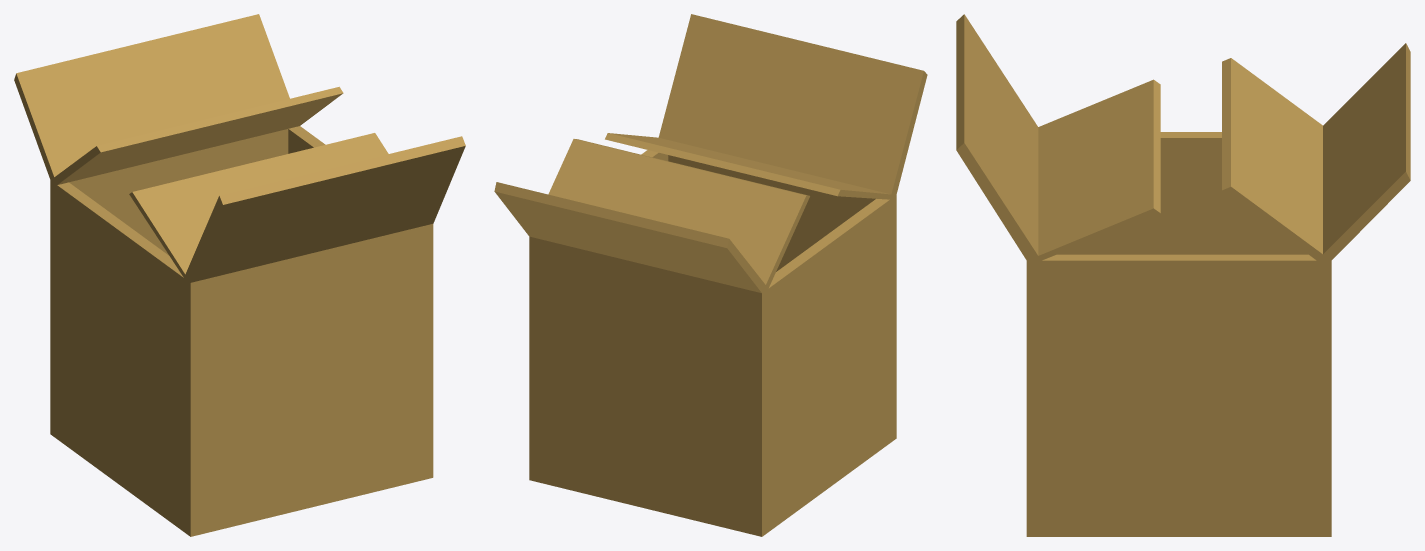
File: boxes.fbx
The picture shows the model from 3 angles, left to right: view 1: azimuth 30°, elevation 25°; view 2: azimuth 150°, elevation 25°; view 3: azimuth 270°, elevation 25°; orthographic projection. The views are drawn at different scales.
Visible parts, largest first — view 1: Cube, Cube.001; view 2: Cube, Cube.001; view 3: Cube, Cube.001.
Part boxes in pixels (x1=…): Cube: x1=14, y1=14, x2=465, y2=536; Cube.001: x1=52, y1=86, x2=388, y2=281; Cube: x1=494, y1=14, x2=927, y2=536; Cube.001: x1=548, y1=133, x2=891, y2=291; Cube: x1=956, y1=14, x2=1410, y2=536; Cube.001: x1=1027, y1=58, x2=1329, y2=260.
Size of the model in its own units: 200 by 285 by 298.
